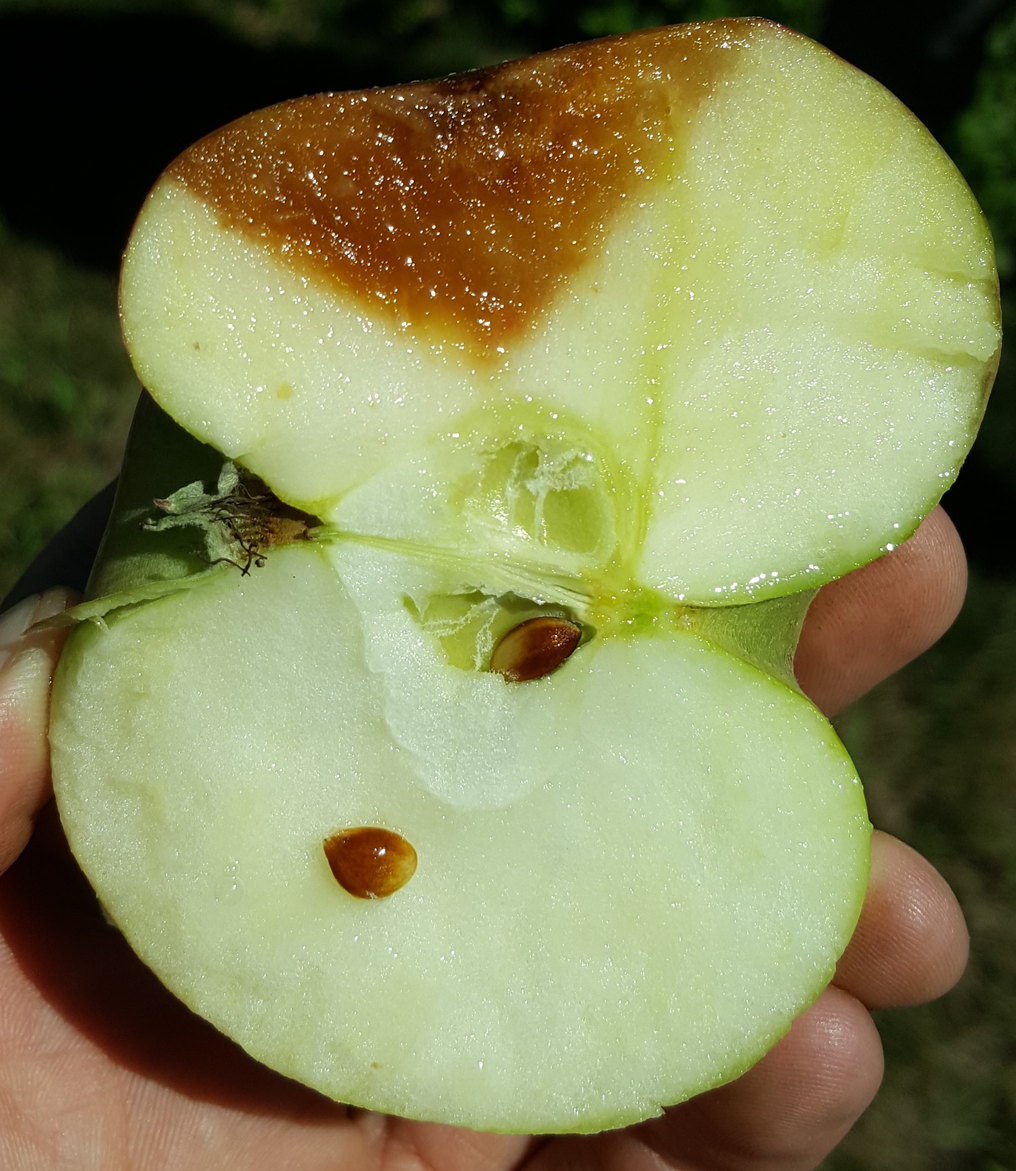defect: (137, 57, 891, 341)
